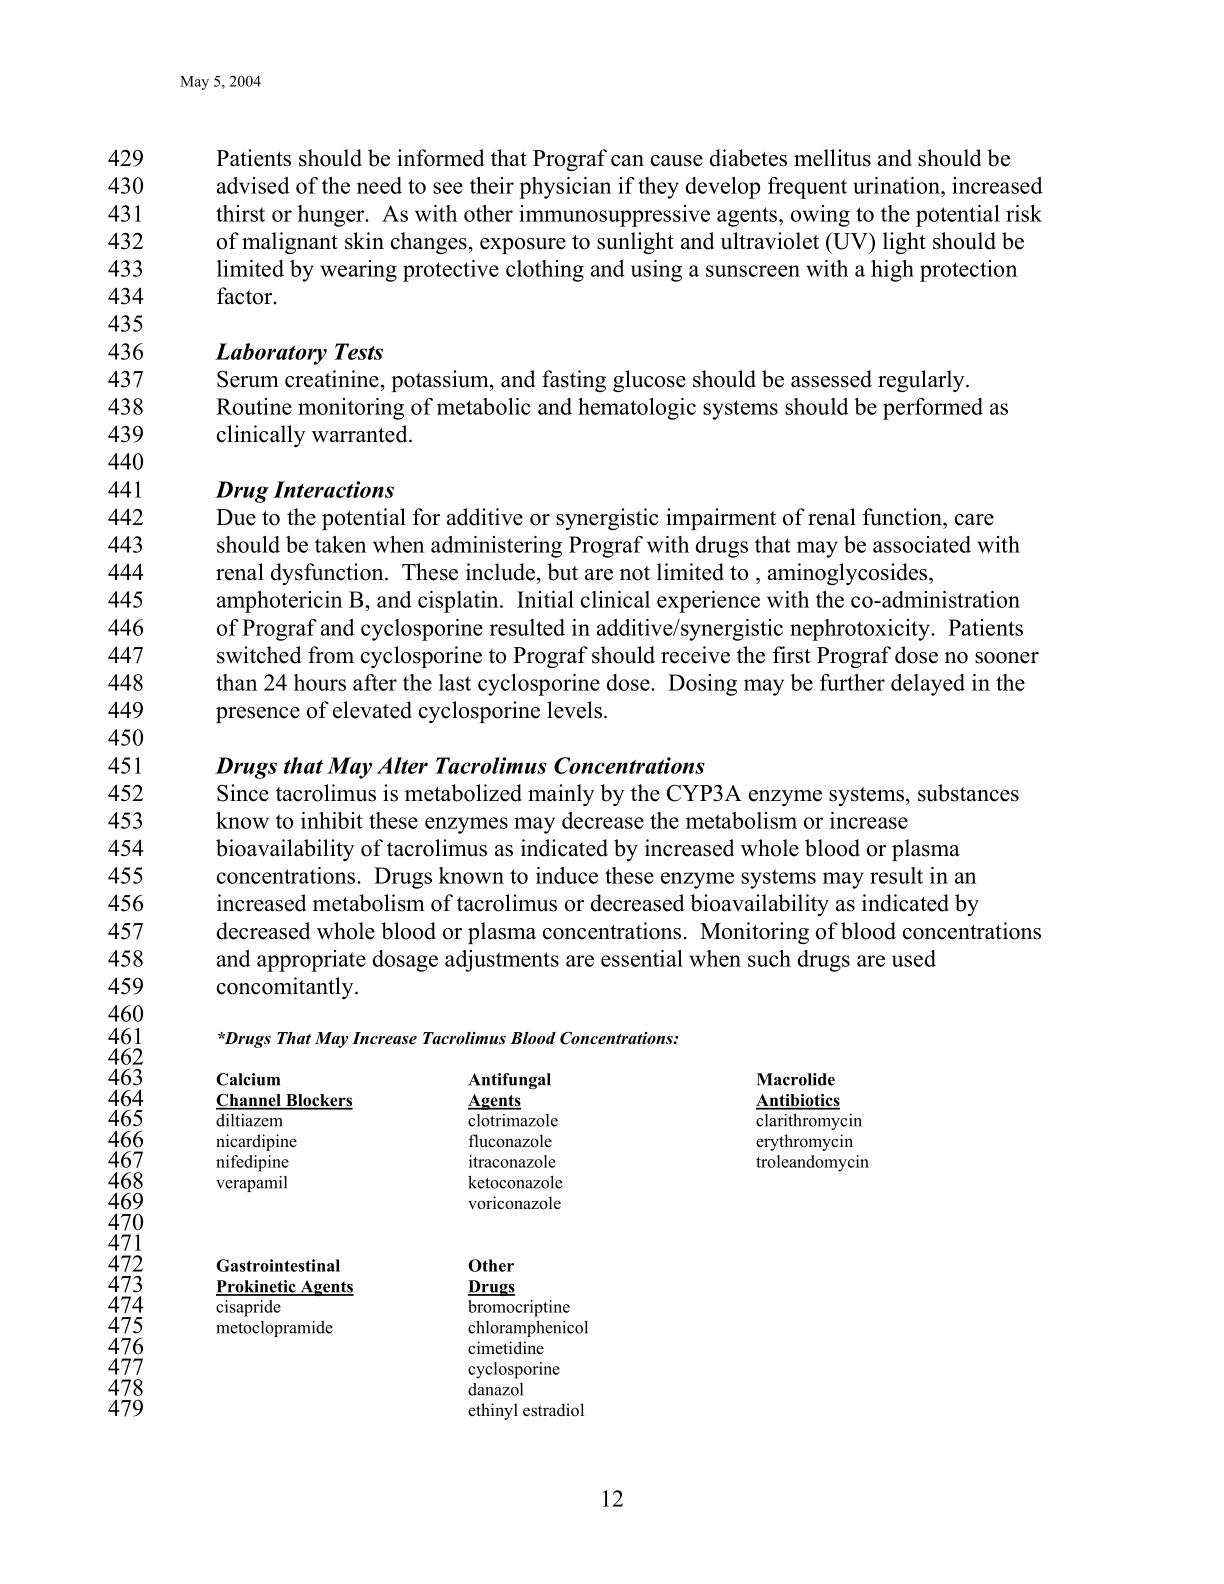nolines: (211, 1067, 870, 1421)
